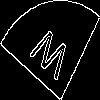W: (25, 25, 72, 89)
